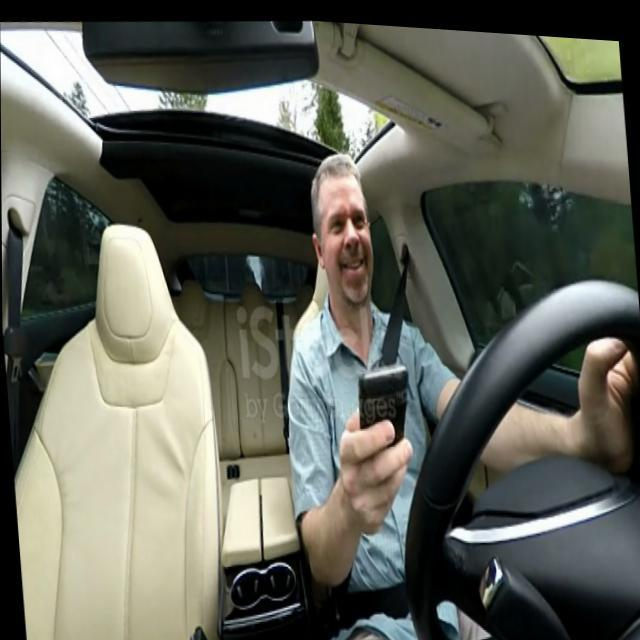PhoneCall: (352, 356, 416, 478)
